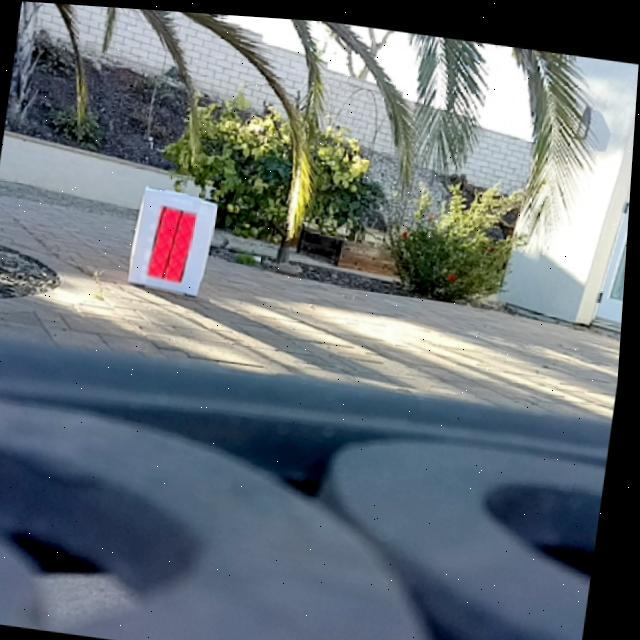led: (148, 199, 201, 282)
